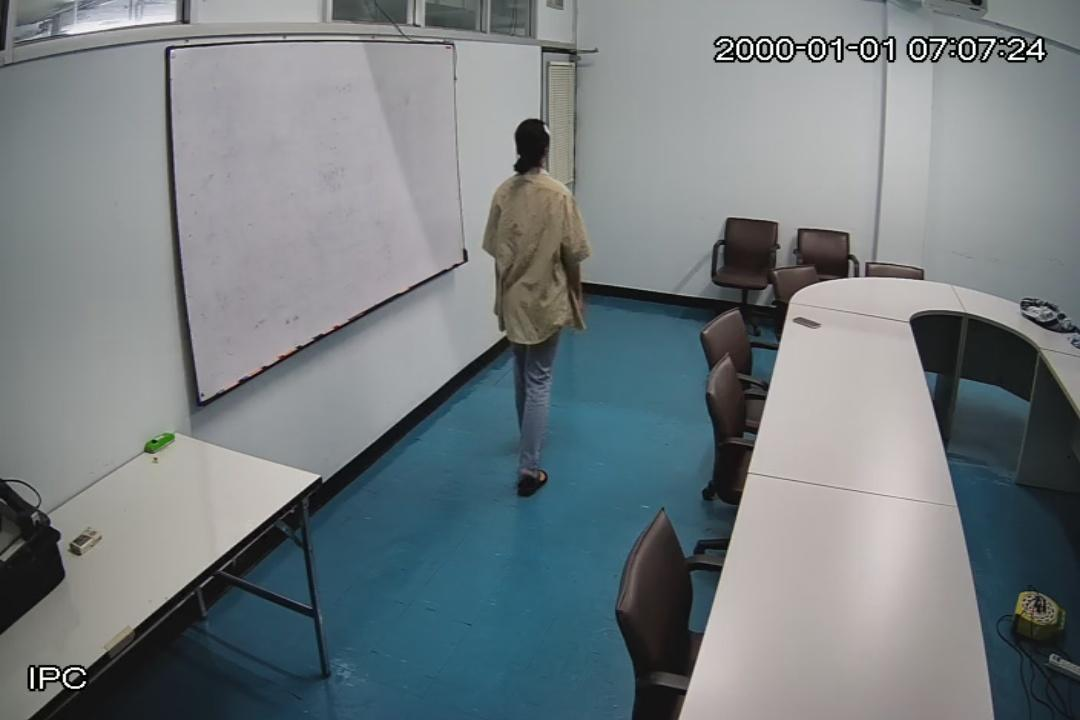normal: (484, 102, 592, 496)
